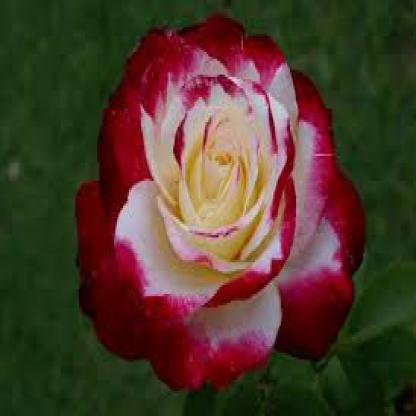Rose-Mawar: (68, 10, 370, 385)
